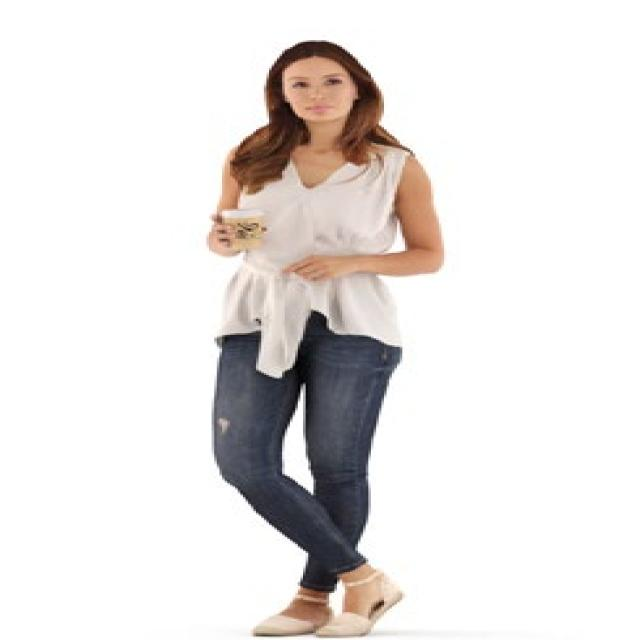standing: (198, 38, 464, 638)
